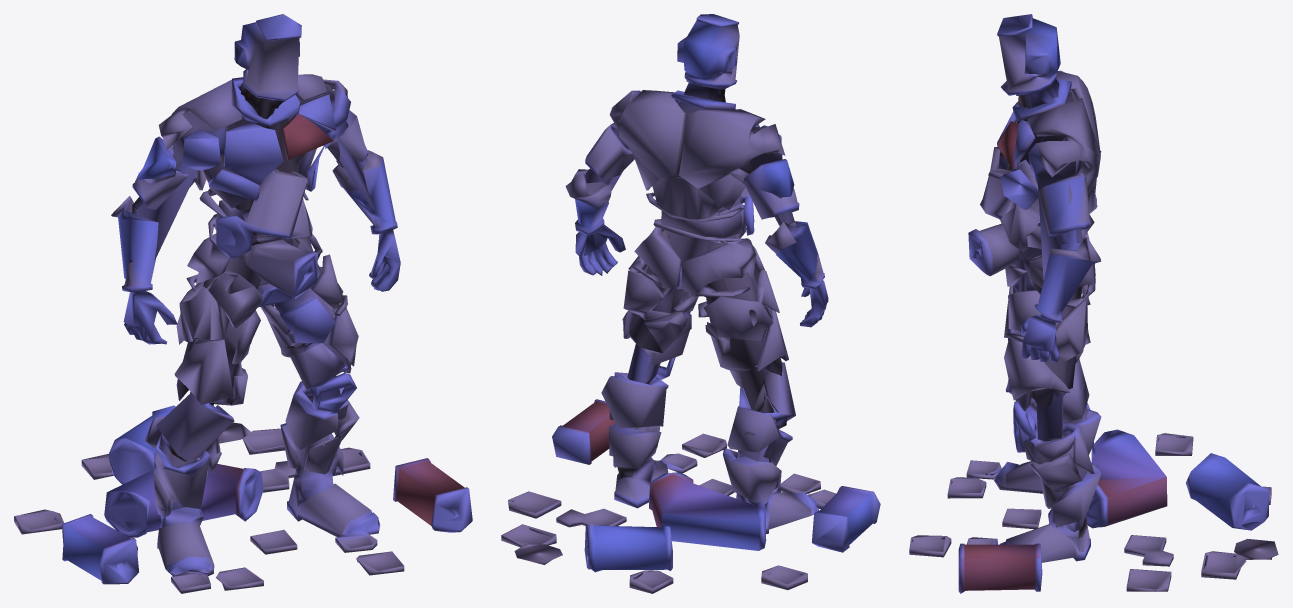
The model's file is model.progressive.glb.
3 renders of one model, left to right at view 1: azimuth 30°, elevation 25°; view 2: azimuth 150°, elevation 25°; view 3: azimuth 270°, elevation 25°, orthographic. The views are drawn at different scales.
Parts seen in each view (by area): view 1: CanMan3; view 2: CanMan3; view 3: CanMan3.
Boxes of the visible parts, x1,y1,x2,y2 form: CanMan3: [14, 14, 472, 593]; CanMan3: [501, 14, 880, 593]; CanMan3: [909, 14, 1278, 593].
Bounding box in the file's own units: 1.32 × 1.89 × 1.26.
Materials: 1 (1 with a texture image).
